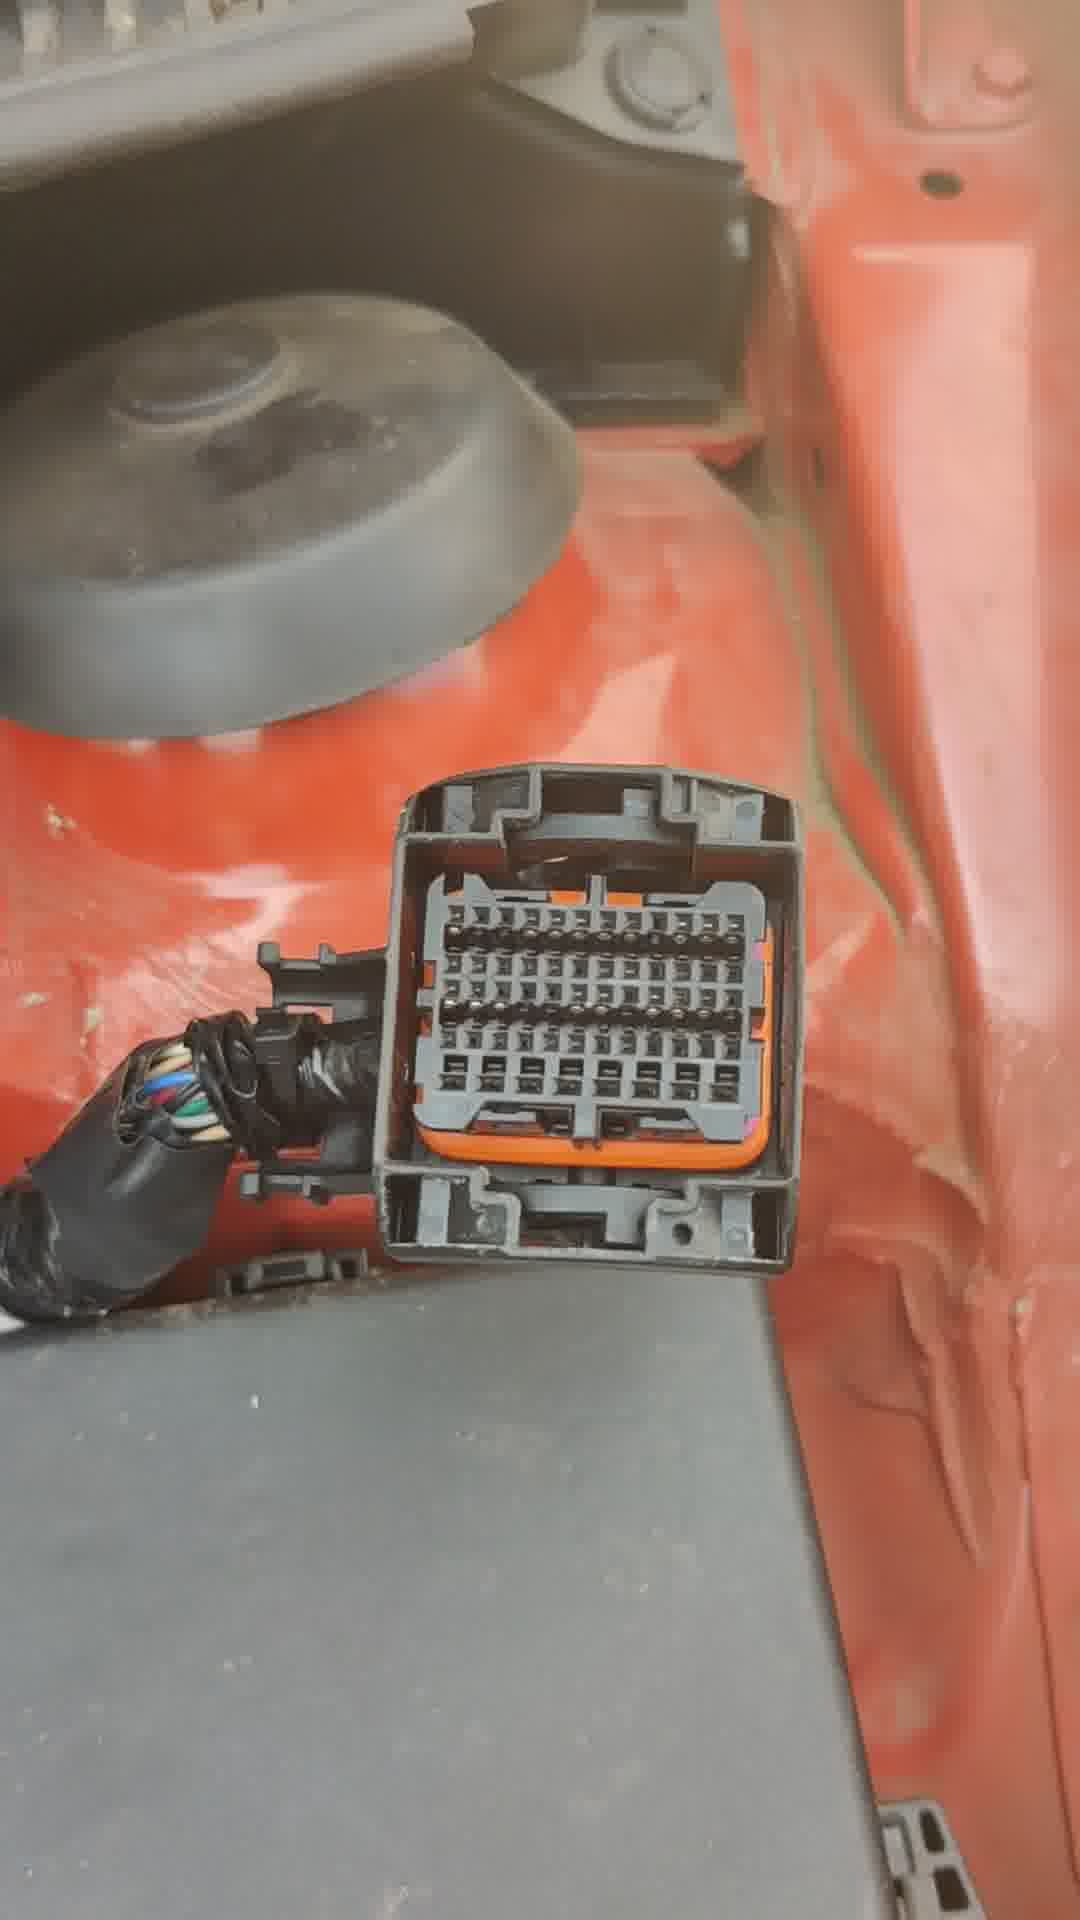connector: (375, 770, 808, 1276)
